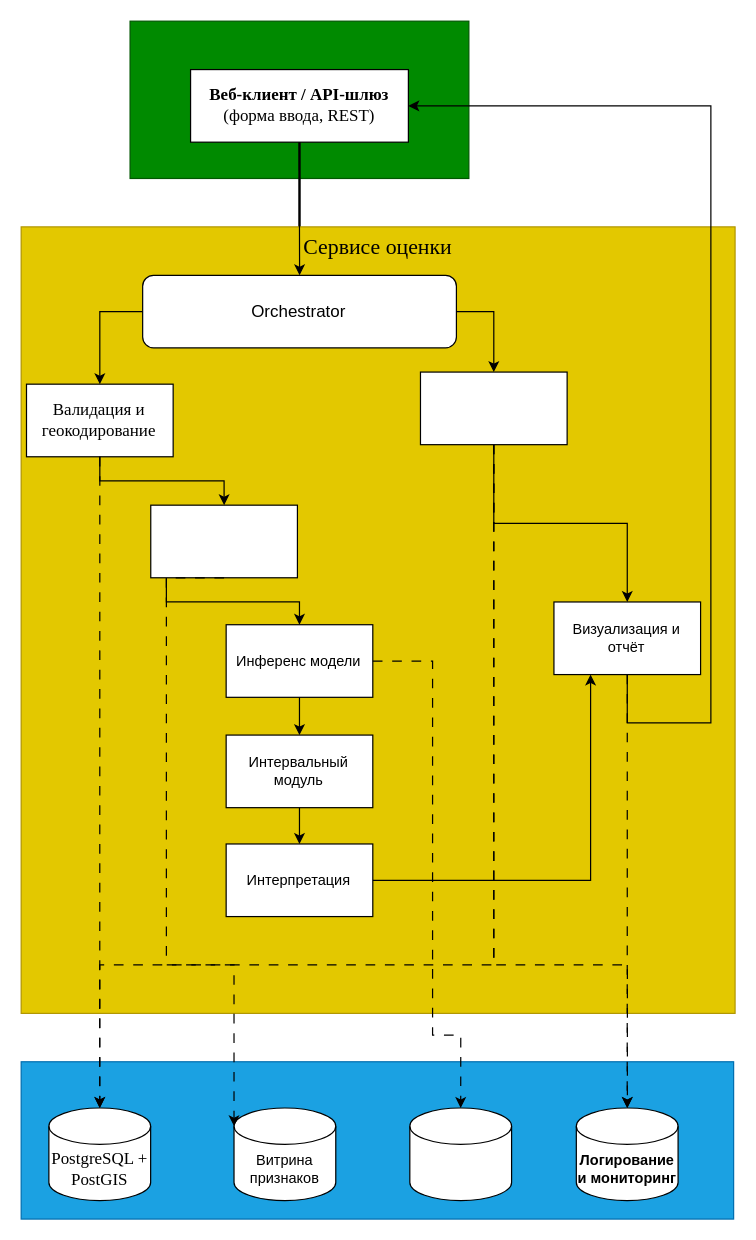
Some shapes in this 756 by 1240 pixel diagram are drawn without their labels. Here are the shapes that lost their labels. From the top down, the box of each, then its label:
(129, 20, 469, 178): Клиентский слой
(419, 371, 567, 445): Модуль компараблов
(150, 504, 297, 578): Генератор признаков
(20, 1061, 734, 1219): Данные и артефакты
(409, 1107, 512, 1201): Реестр моделей
